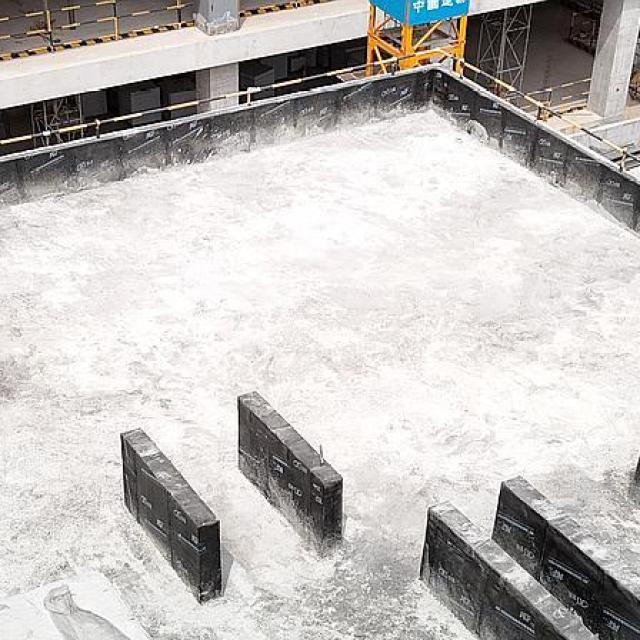edge_guardrail: (0, 46, 640, 174), (0, 0, 195, 51), (504, 76, 592, 111)
